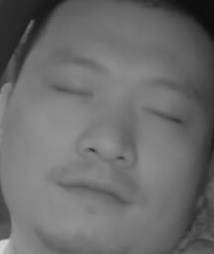blink: (52, 80, 92, 102), (141, 102, 180, 124)
mouth: (58, 173, 133, 216)
